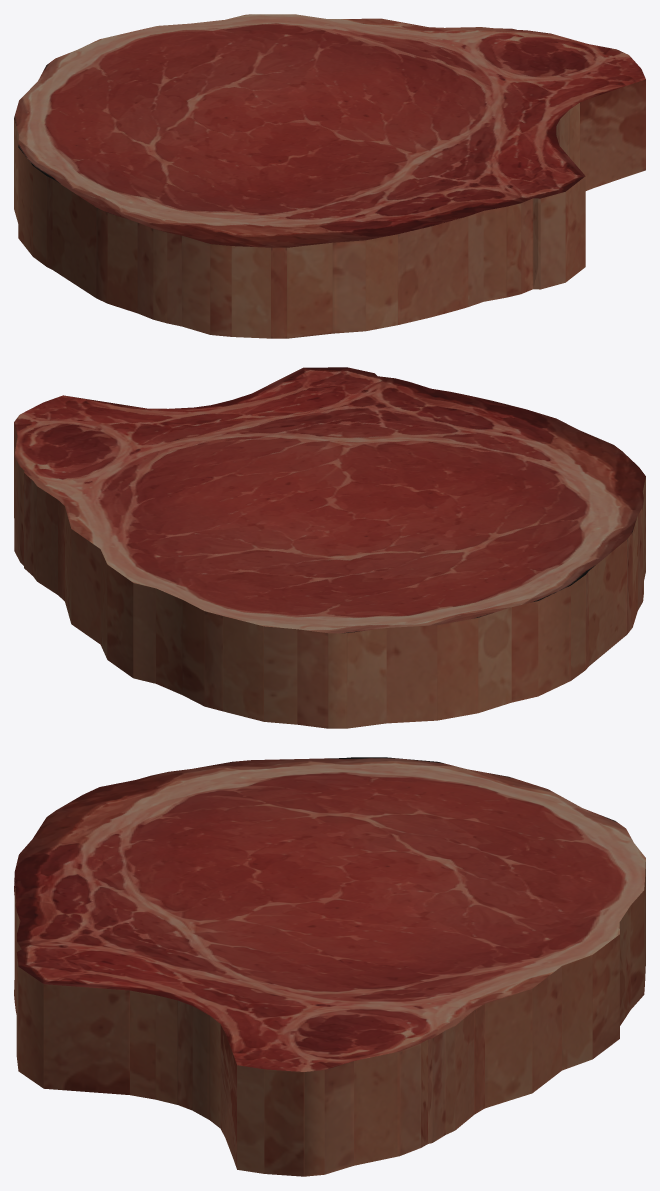
File: RawMeat.glb
3 renders of one model, top to bottom at view 1: azimuth 30°, elevation 25°; view 2: azimuth 150°, elevation 25°; view 3: azimuth 270°, elevation 25°, orthographic. The views are drawn at different scales.
Visible parts, largest first — view 1: RawMeat_Raw_0; view 2: RawMeat_Raw_0; view 3: RawMeat_Raw_0.
Part boxes in pixels (bbox=[...]): RawMeat_Raw_0: bbox=[14, 14, 645, 338]; RawMeat_Raw_0: bbox=[14, 367, 645, 728]; RawMeat_Raw_0: bbox=[14, 757, 645, 1176].
Size of the model in its own units: 13.66 by 2.12 by 11.59.
Materials: 1 (1 with a texture image).
